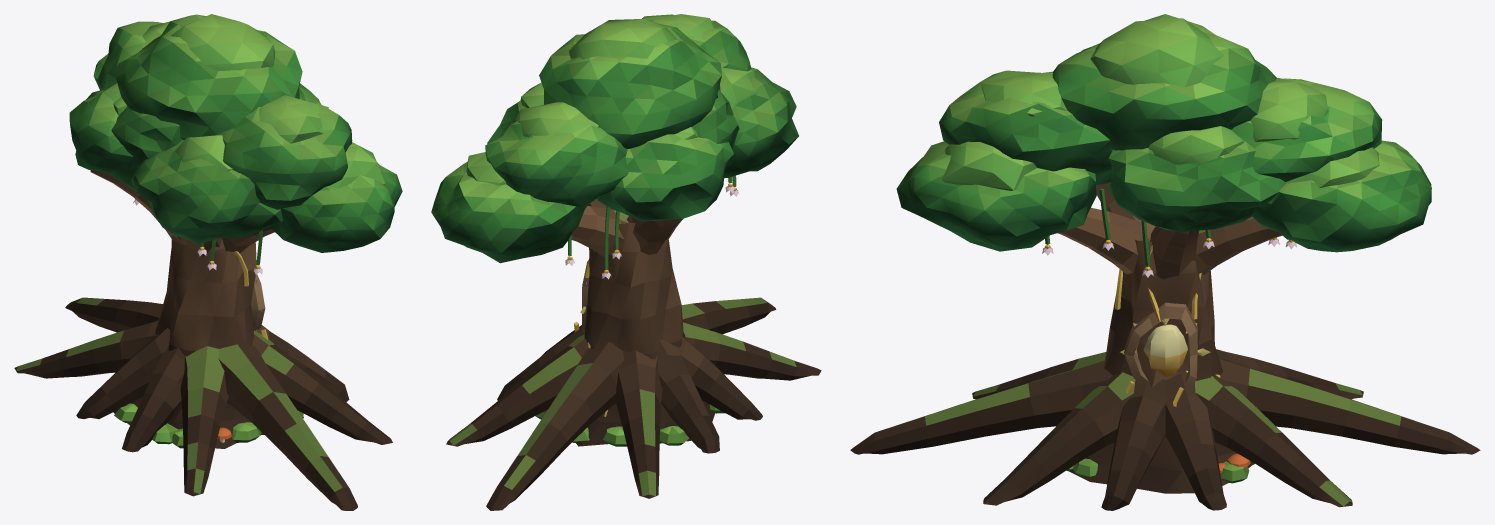
The model's file is Heartroot.fbx.
3 renders of one model, left to right at view 1: azimuth 30°, elevation 25°; view 2: azimuth 150°, elevation 25°; view 3: azimuth 270°, elevation 25°, orthographic. The views are drawn at different scales.
Visible parts, largest first — view 1: Canopy, Trunk; view 2: Canopy, Trunk; view 3: Canopy, Trunk, HeartCore.
Boxes of the visible parts, x1,y1,x2,y2 form: Canopy: (69,14,402,274); Trunk: (14,170,392,510); Canopy: (431,14,798,279); Trunk: (446,199,821,510); Canopy: (896,14,1431,277); Trunk: (850,182,1480,510); HeartCore: (1120,318,1210,380).
Bounding box in the file's own units: 2.15 × 3.5 × 4.73.
